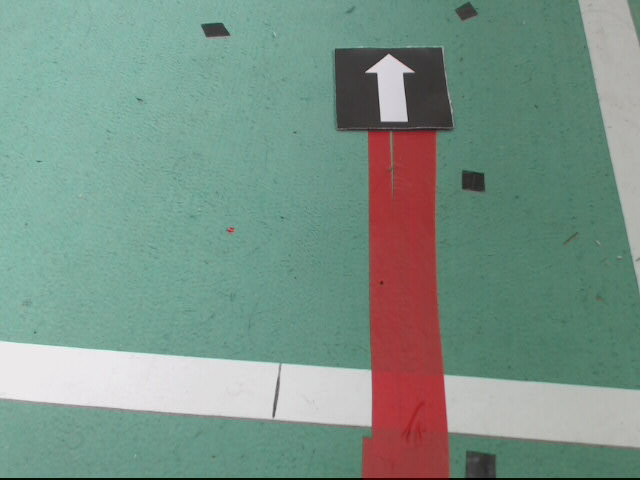straight: (334, 46, 455, 131)
